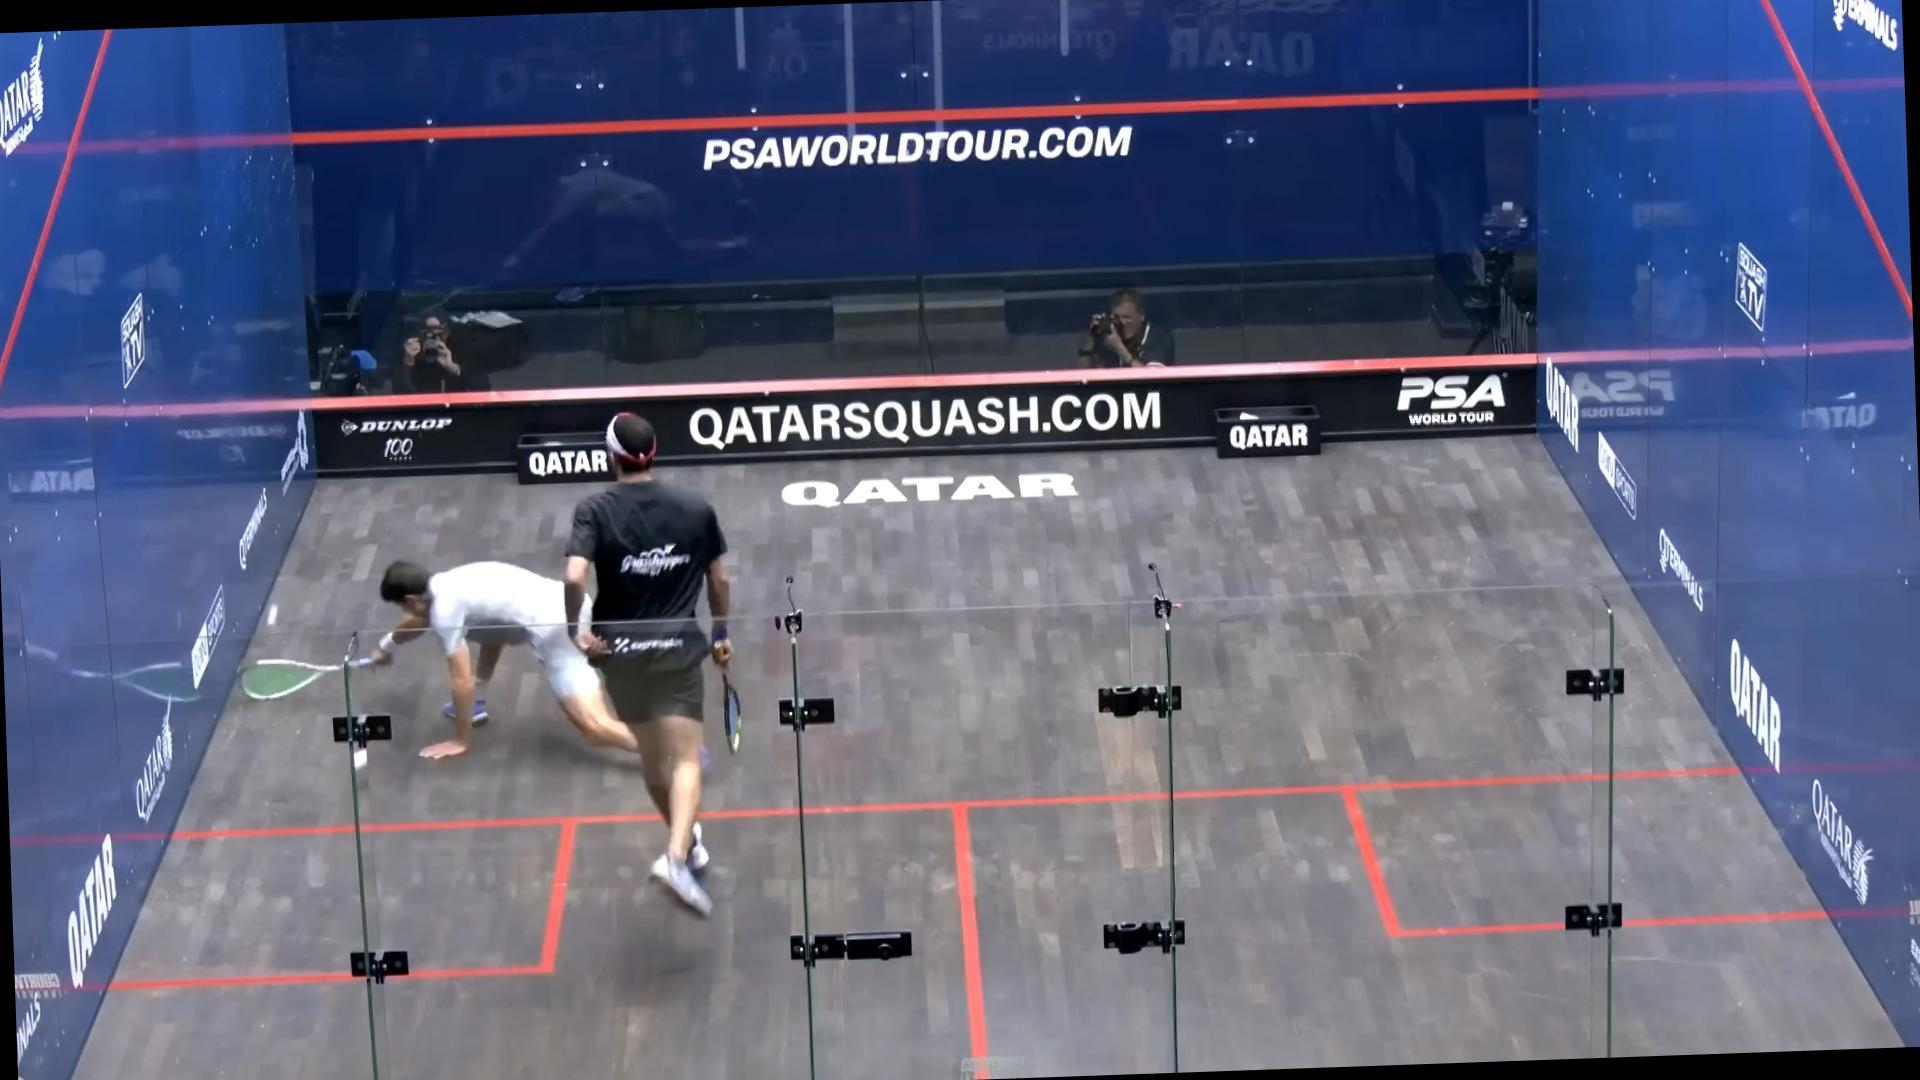Racket: (231, 646, 389, 708), (709, 667, 757, 756)
